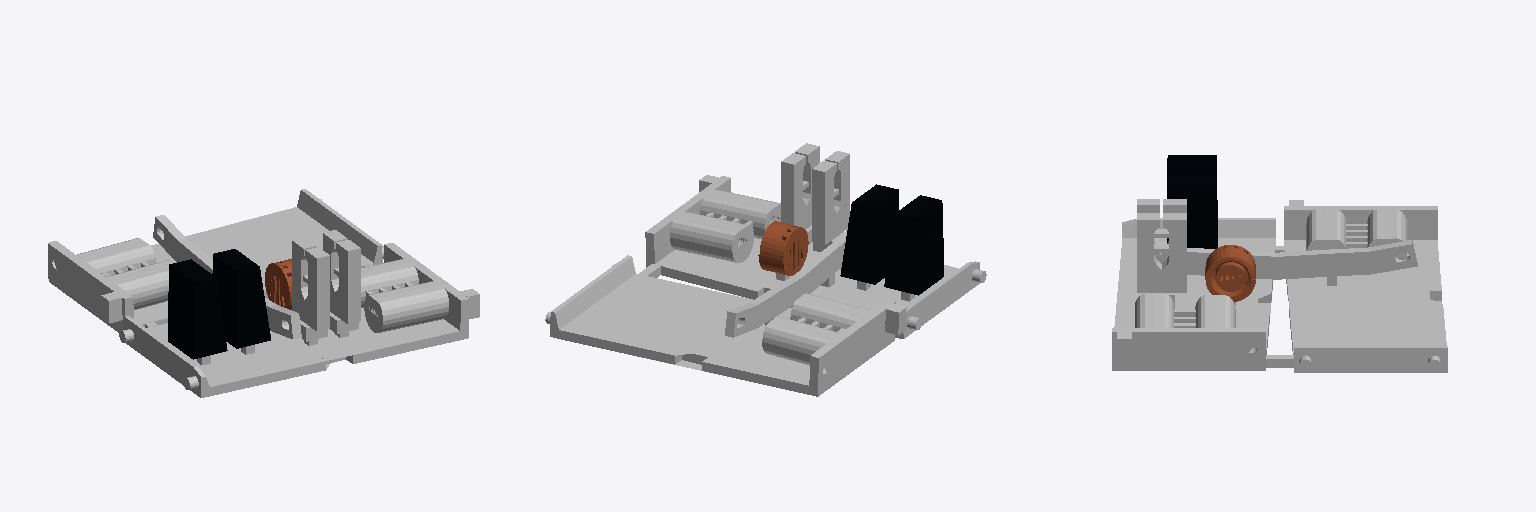
The model's file is Toveri3D_printable_minimum.obj.
The picture shows the model from 3 angles: view 1: azimuth 30°, elevation 25°; view 2: azimuth 150°, elevation 25°; view 3: azimuth 270°, elevation 25°; orthographic projection.
Parts seen in each view (by area): view 1: Cube.062_Cube.011, Cube.021_Cube.014, card_reader_angler_Circle.012, card_reader_angler.001_Circle.002, Cylinder.014_Cylinder.022, heater_mount_Cube.028, heater_mount.001_Cube.021, Cube.008_Cube.006, Cylinder.016_Cylinder.023, Cylinder.018_Cylinder.025, Cylinder.008_Cylinder.012, Circle.009_Circle.021 (+1 smaller); view 2: Cube.021_Cube.014, Cube.062_Cube.011, card_reader_angler_Circle.012, card_reader_angler.001_Circle.002, Cube.008_Cube.006, Cylinder.008_Cylinder.012, heater_mount_Cube.028, heater_mount.001_Cube.021, Cylinder.018_Cylinder.025, Cylinder.014_Cylinder.022, Cylinder.016_Cylinder.023, Circle.009_Circle.021 (+2 smaller); view 3: Cube.021_Cube.014, Cube.062_Cube.011, Cube.008_Cube.006, heater_mount.001_Cube.021, card_reader_angler.001_Circle.002, Cylinder.016_Cylinder.023, Cylinder.014_Cylinder.022, Cylinder.008_Cylinder.012, Cylinder.018_Cylinder.025, Plane.001_Plane.012, card_reader_angler_Circle.012, heater_mount_Cube.028 (+1 smaller).
Boxes of the visible parts, x1=… form: Cube.062_Cube.011: x1=124, y1=243, x2=469, y2=397; Cube.021_Cube.014: x1=48, y1=189, x2=382, y2=332; card_reader_angler_Circle.012: x1=168, y1=259, x2=227, y2=359; card_reader_angler.001_Circle.002: x1=212, y1=249, x2=270, y2=348; Cylinder.014_Cylinder.022: x1=364, y1=281, x2=451, y2=332; heater_mount_Cube.028: x1=292, y1=237, x2=329, y2=331; heater_mount.001_Cube.021: x1=323, y1=230, x2=360, y2=323; Cube.008_Cube.006: x1=153, y1=215, x2=301, y2=339; Cylinder.016_Cylinder.023: x1=107, y1=260, x2=175, y2=309; Cylinder.018_Cylinder.025: x1=68, y1=238, x2=155, y2=275; Cylinder.008_Cylinder.012: x1=361, y1=258, x2=420, y2=307; Circle.009_Circle.021: x1=265, y1=262, x2=291, y2=309; Cube.021_Cube.014: x1=550, y1=255, x2=895, y2=396; Cube.062_Cube.011: x1=645, y1=176, x2=979, y2=338; card_reader_angler_Circle.012: x1=884, y1=195, x2=943, y2=295; card_reader_angler.001_Circle.002: x1=840, y1=184, x2=898, y2=284; Cube.008_Cube.006: x1=725, y1=229, x2=847, y2=337; Cylinder.008_Cylinder.012: x1=667, y1=211, x2=753, y2=262; heater_mount_Cube.028: x1=812, y1=151, x2=849, y2=244; heater_mount.001_Cube.021: x1=781, y1=143, x2=819, y2=229; Cylinder.018_Cylinder.025: x1=762, y1=316, x2=848, y2=365; Cylinder.014_Cylinder.022: x1=698, y1=189, x2=780, y2=238; Cylinder.016_Cylinder.023: x1=790, y1=293, x2=870, y2=331; Circle.009_Circle.021: x1=777, y1=226, x2=808, y2=275; Cube.021_Cube.014: x1=1284, y1=206, x2=1447, y2=372; Cube.062_Cube.011: x1=1112, y1=218, x2=1275, y2=370; Cube.008_Cube.006: x1=1156, y1=240, x2=1417, y2=279; heater_mount.001_Cube.021: x1=1137, y1=213, x2=1186, y2=292; card_reader_angler.001_Circle.002: x1=1167, y1=176, x2=1217, y2=248; Cylinder.016_Cylinder.023: x1=1306, y1=210, x2=1346, y2=250; Cylinder.014_Cylinder.022: x1=1135, y1=294, x2=1174, y2=335; Cylinder.008_Cylinder.012: x1=1195, y1=295, x2=1235, y2=335; Cylinder.018_Cylinder.025: x1=1367, y1=206, x2=1406, y2=257; Plane.001_Plane.012: x1=1205, y1=249, x2=1255, y2=301; card_reader_angler_Circle.012: x1=1167, y1=155, x2=1217, y2=221; heater_mount_Cube.028: x1=1137, y1=199, x2=1186, y2=263.
Size of the model in its own units: 65.29 by 22.85 by 66.6.